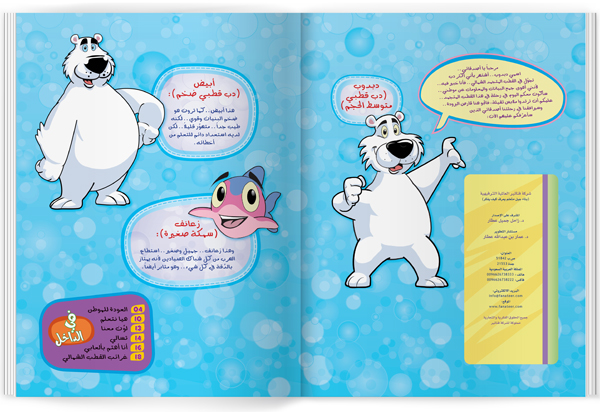dog: (300, 100, 450, 300), (34, 21, 160, 221)
